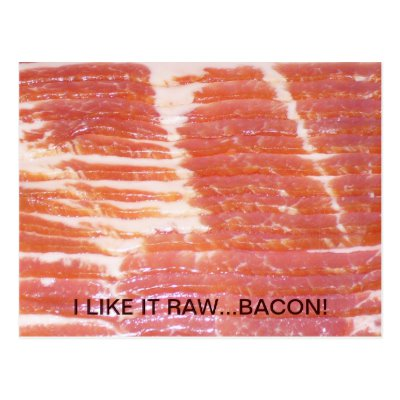bacon: (27, 67, 378, 286)
